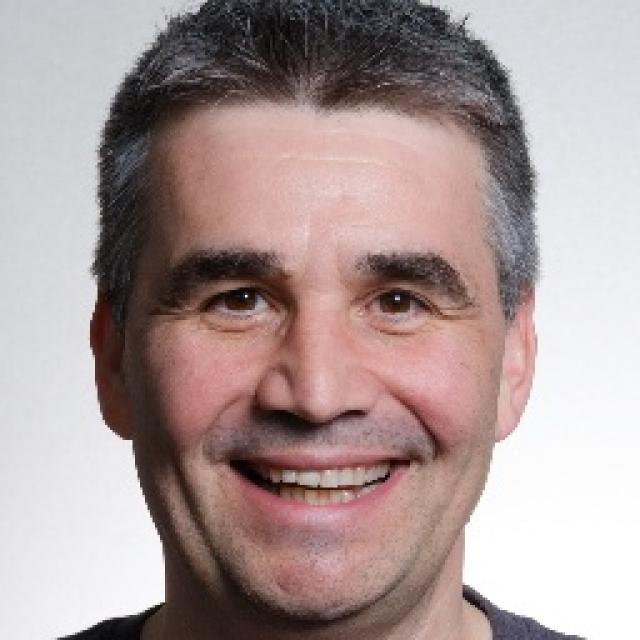earlobe: (99, 384, 132, 441), (494, 385, 526, 442)
eye: (198, 283, 280, 321), (356, 286, 438, 322)
nose: (254, 398, 380, 459)
wholeear: (87, 278, 133, 441), (494, 276, 536, 442)
